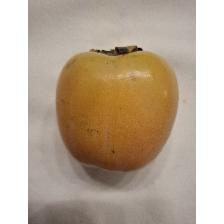Kaki: (53, 43, 181, 174)
